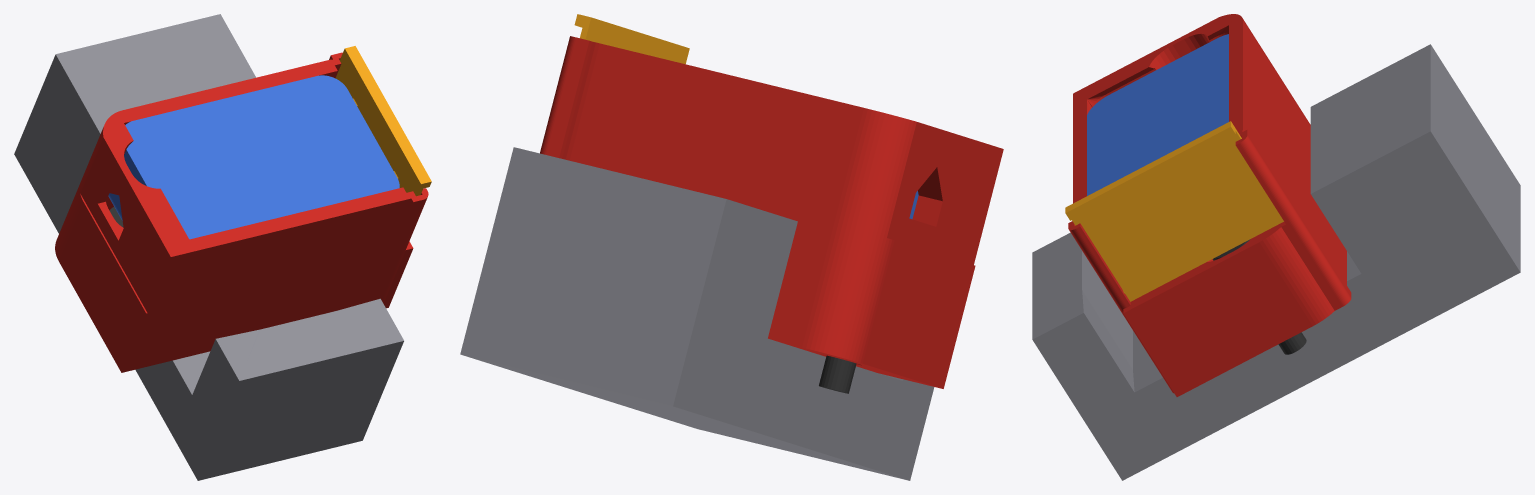
Rendered from dragy_assembly_v6.obj.
3 views of the same model, side by side, from view 1: azimuth 30°, elevation 25°; view 2: azimuth 150°, elevation 25°; view 3: azimuth 270°, elevation 25° (orthographic). The views are drawn at different scales.
Parts seen in each view (by area): view 1: front_swingarm_pad_schematic, dragy_holder, dragy, gate; view 2: front_swingarm_pad_schematic, dragy_holder, gate, screws; view 3: front_swingarm_pad_schematic, dragy_holder, gate, dragy.
Part boxes in pixels (box(x1,y1,x2,y2)): front_swingarm_pad_schematic: box(14, 14, 403, 480); dragy_holder: box(55, 52, 428, 372); dragy: box(108, 75, 399, 239); gate: box(335, 46, 431, 196); front_swingarm_pad_schematic: box(460, 147, 934, 480); dragy_holder: box(540, 36, 1003, 388); gate: box(574, 14, 689, 64); screws: box(819, 355, 856, 393); front_swingarm_pad_schematic: box(1032, 44, 1520, 480); dragy_holder: box(1068, 14, 1351, 396); gate: box(1065, 121, 1283, 301); dragy: box(1087, 34, 1228, 195).
Size of the model in its own units: 51.2 by 63.68 by 74.76.
